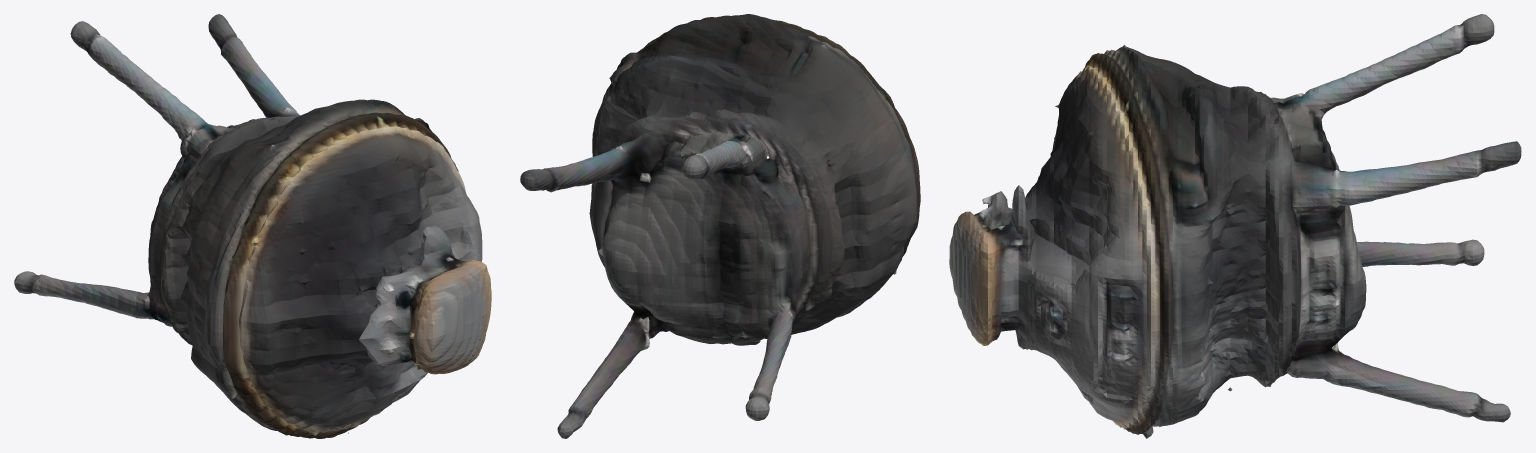
The model's file is grill_3d.glb.
3 renders of one model, left to right at view 1: azimuth 30°, elevation 25°; view 2: azimuth 150°, elevation 25°; view 3: azimuth 270°, elevation 25°, orthographic. The views are drawn at different scales.
Visible parts, largest first — view 1: world; view 2: world; view 3: world.
Boxes of the visible parts, <box> form: world: <box>14,14,491,438</box>; world: <box>520,14,920,438</box>; world: <box>949,14,1521,438</box>.
Size of the model in its own units: 0.6229 by 0.6307 by 0.882.
